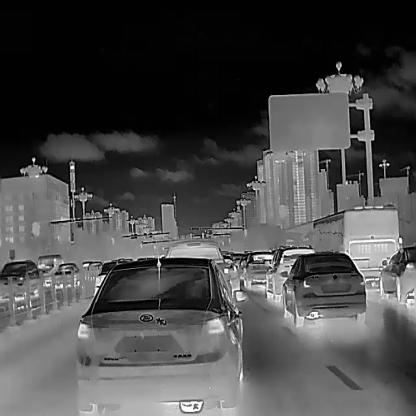bus: (311, 204, 400, 288)
car: (75, 256, 249, 415), (279, 250, 366, 328), (264, 244, 314, 302), (378, 245, 416, 303), (0, 259, 40, 303), (93, 258, 131, 296), (242, 250, 276, 288), (222, 254, 243, 298), (36, 253, 63, 287), (53, 262, 80, 288), (80, 261, 102, 279)
